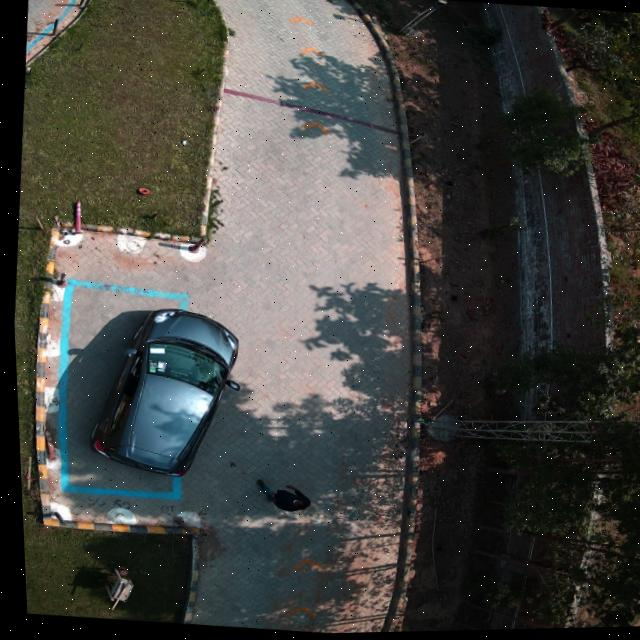car: (86, 309, 233, 477)
